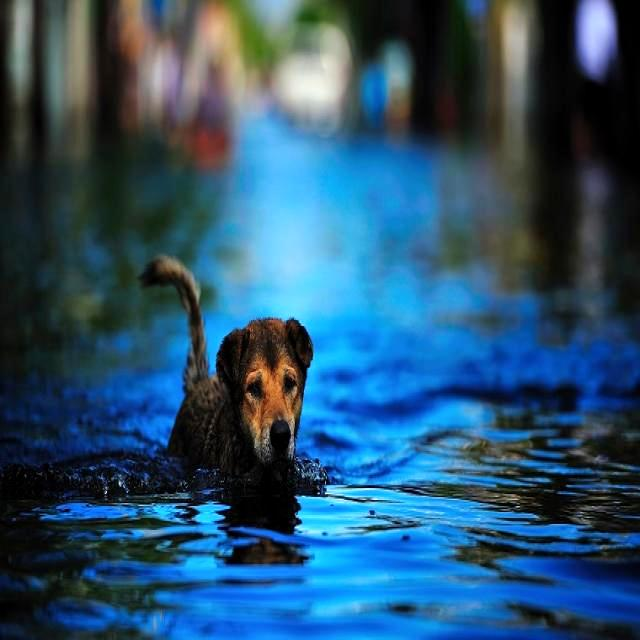dog: (129, 246, 319, 477)
